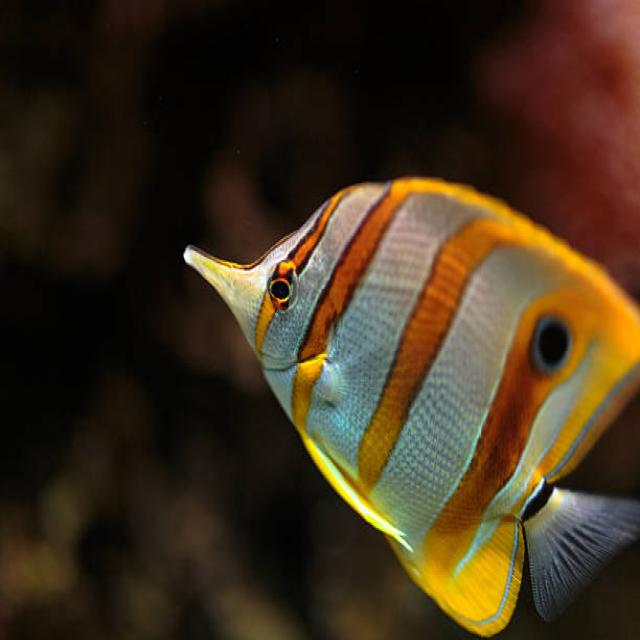ButterflyFish: (185, 178, 640, 639)
